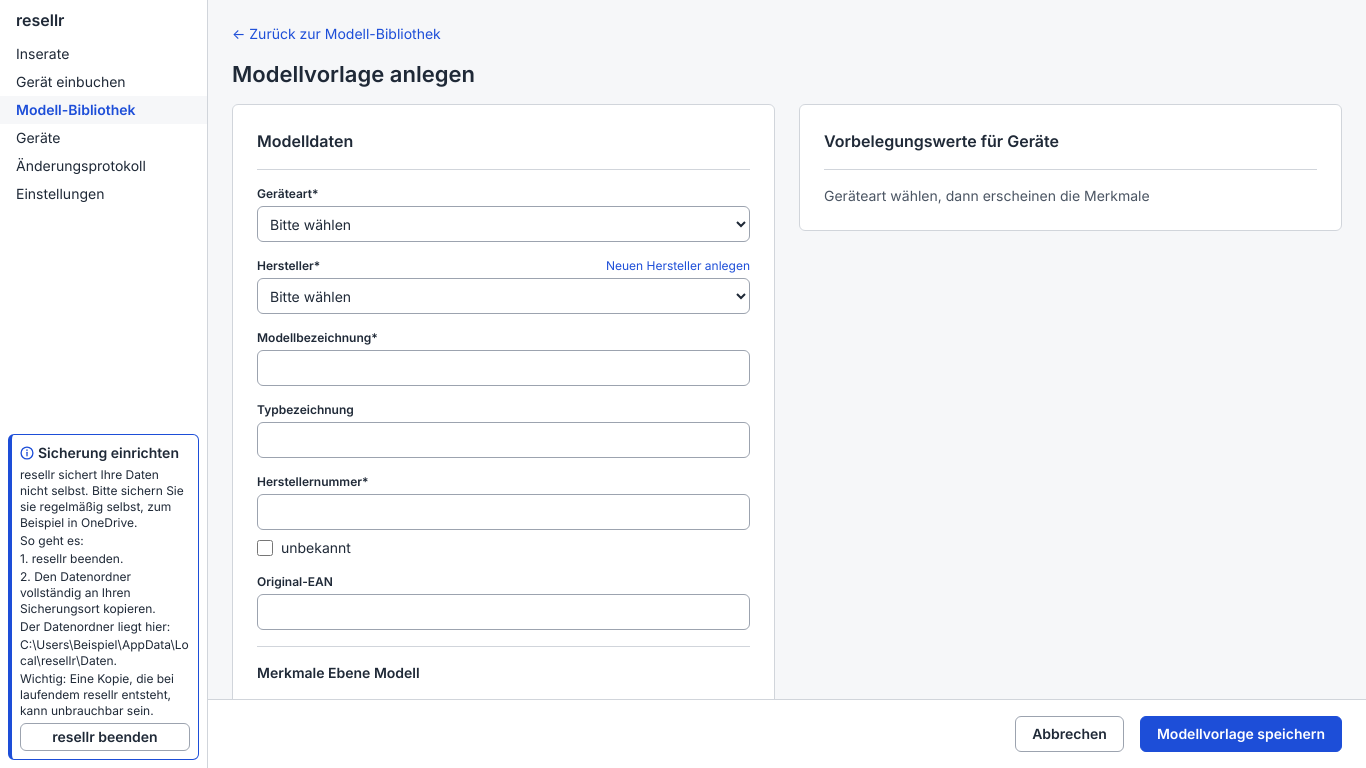
Test case: UI-007 attribute fields and device defaults (CU-111, CU-112, CU-114, #178) › AC-REQ-008-05 shows the missing required attribute of a 422 validation_failed at its field
Select "Notebook" in the dropdown labelled "Geräteart*": (504, 224) [257,206,750,242]
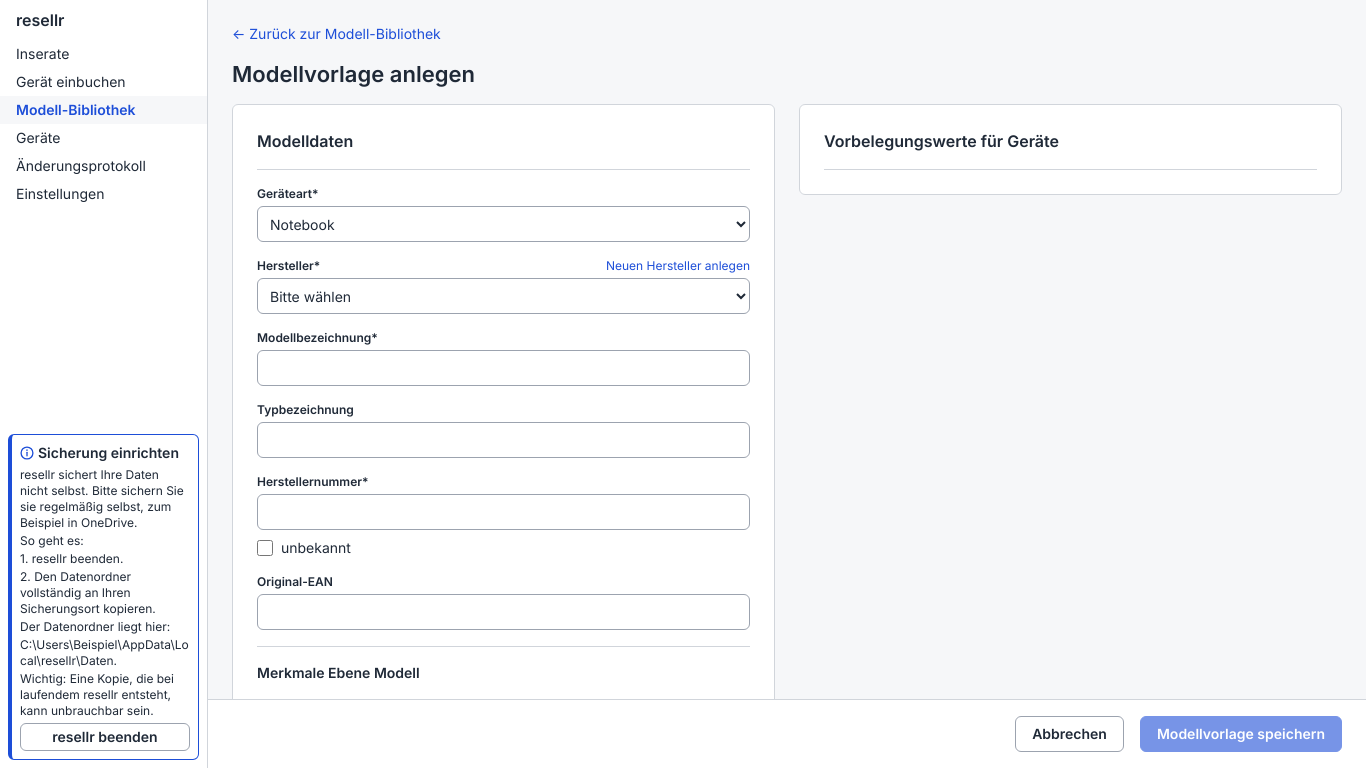
Select "Lenovo" in the dropdown labelled "Hersteller*": (504, 296) [257,278,750,314]
In the field labelled "Modellbezeichnung*": (504, 368) [257,350,750,386], type "ThinkPad E15 Gen 2"
In the field labelled "Herstellernummer*": (504, 512) [257,494,750,530], type "20TD002MGE"
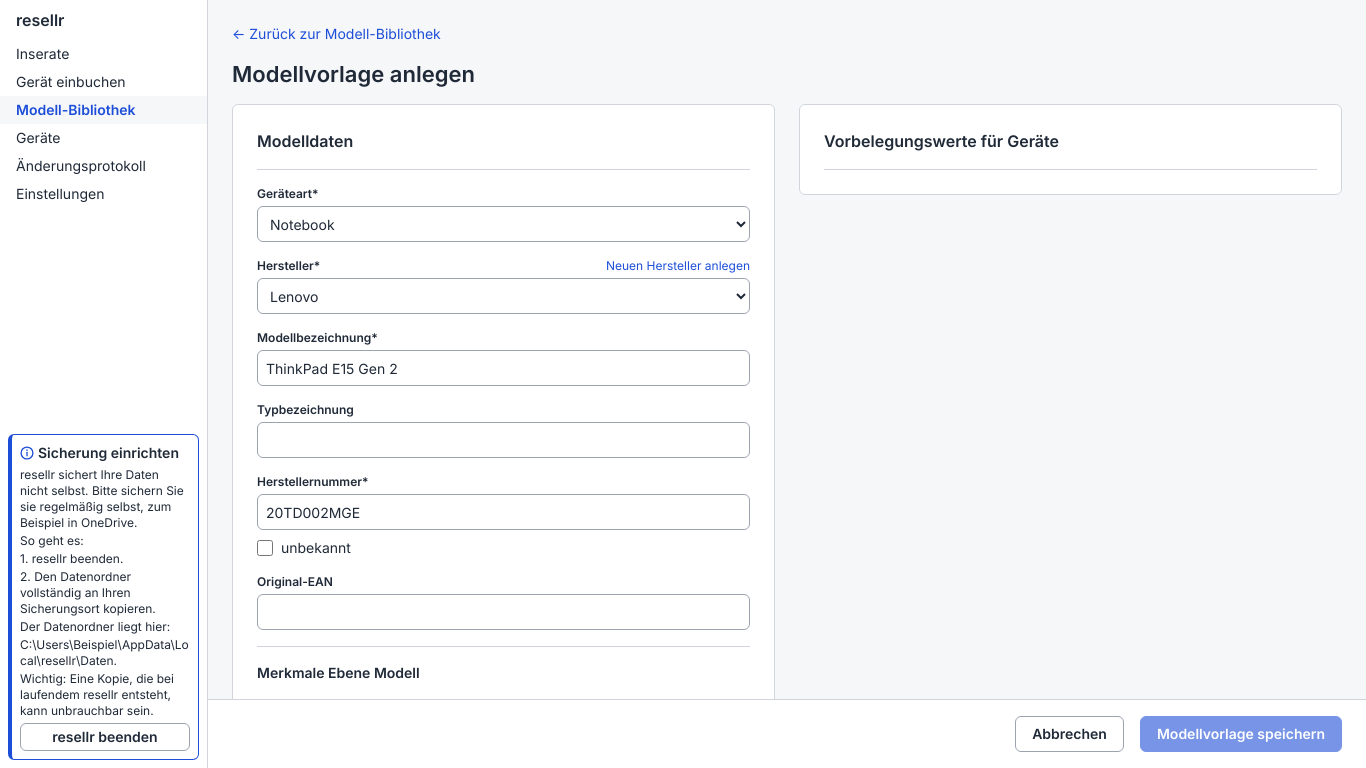
Clear the field labelled "Original-EAN": (504, 612) [257,594,750,630]
(page scrolled)
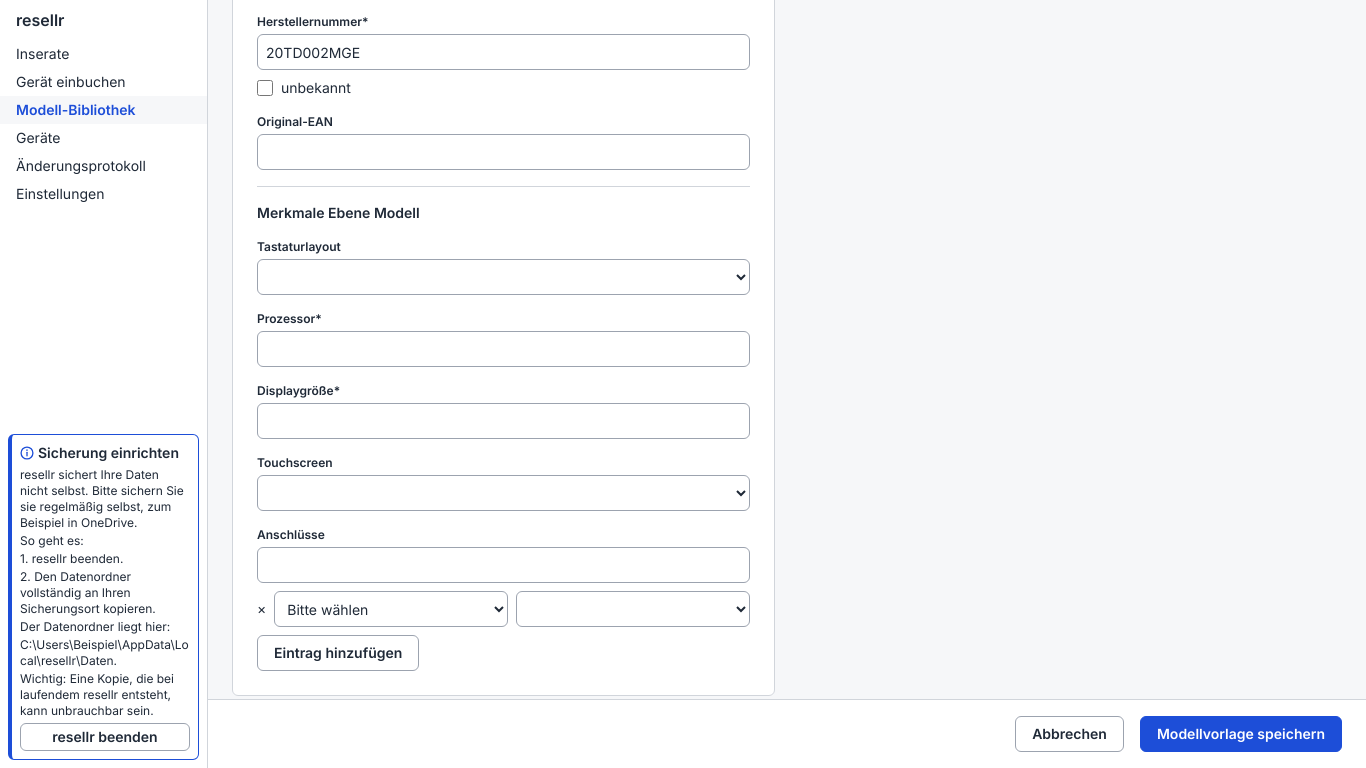
Result: the element named "Merkmale Ebene Modell" is shown at [257,239,750,671]
In the field labelled "Prozessor*": (504, 349) [257,331,750,367], type "Intel Core i5"
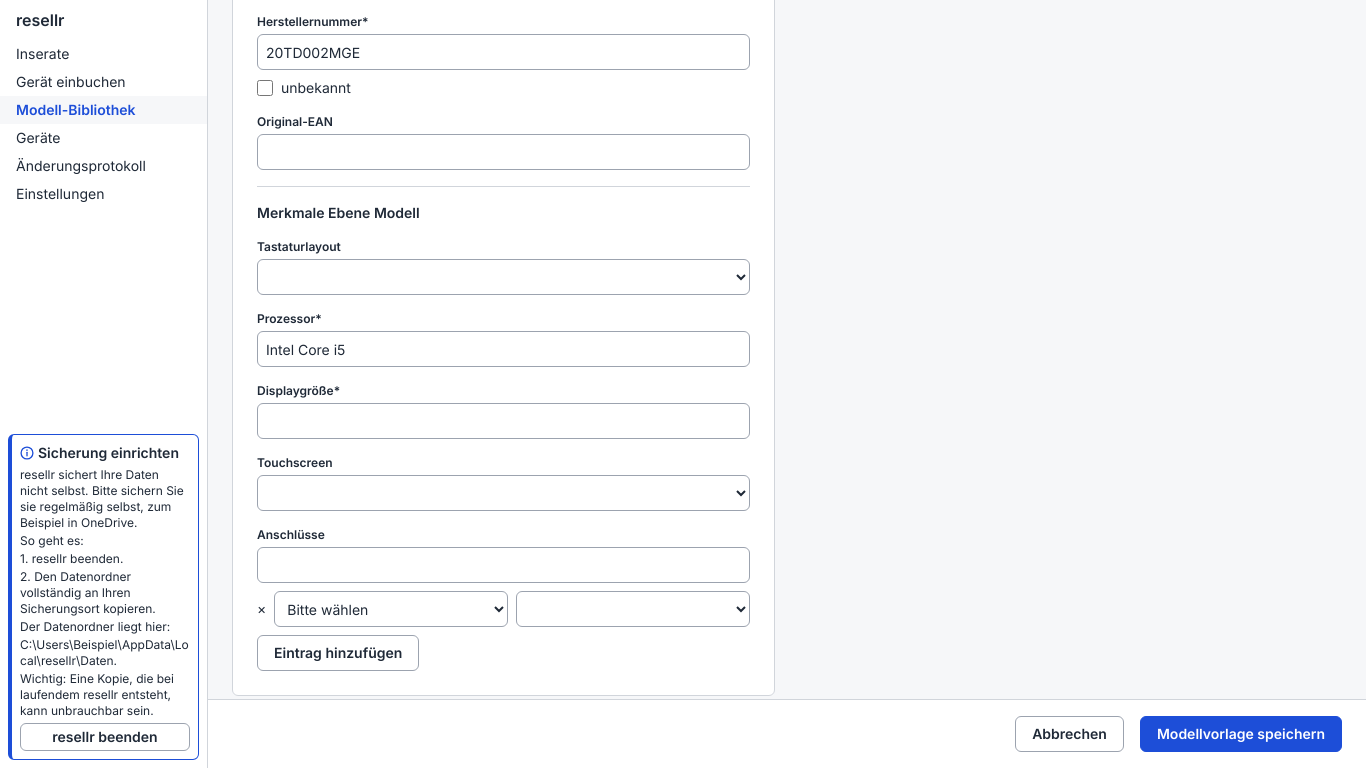
In the field labelled "Displaygröße*": (504, 421) [257,403,750,439], type "14,01"
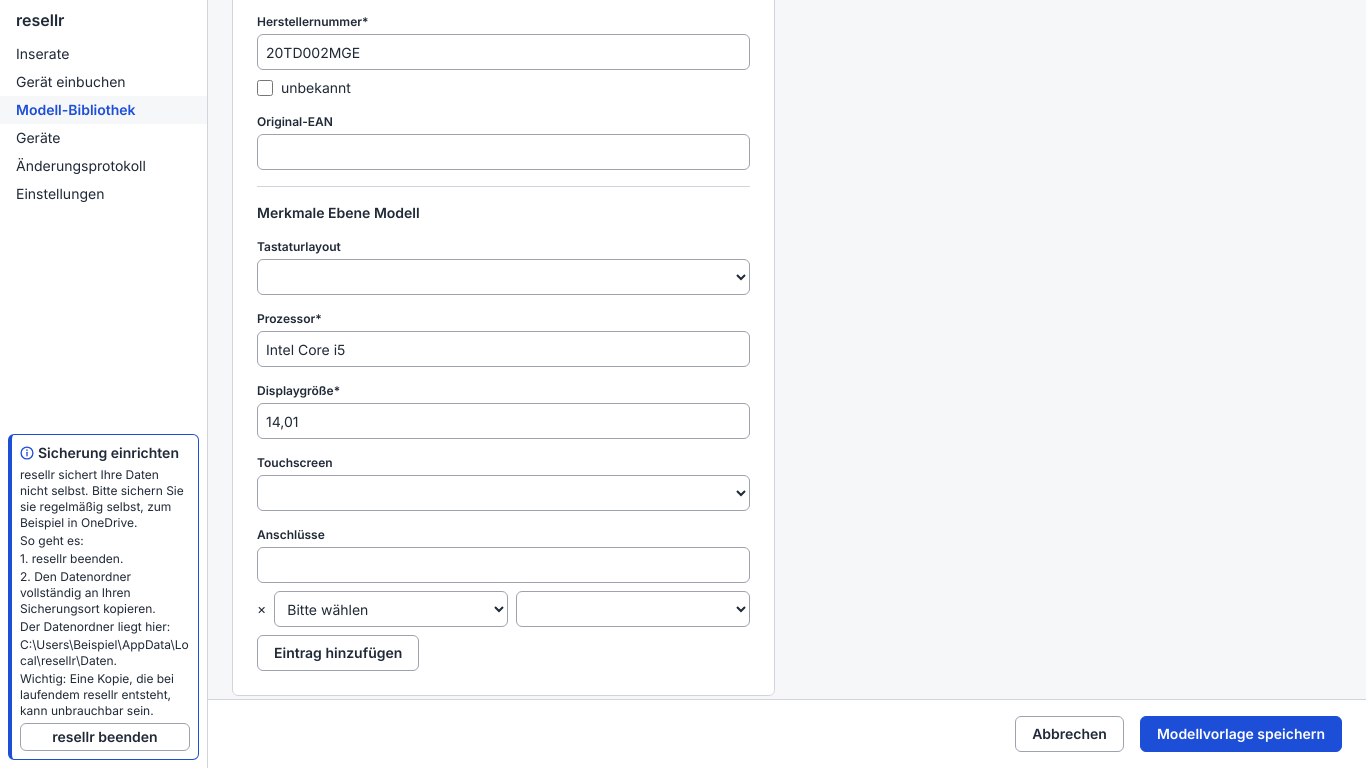
Click the button "Modellvorlage speichern": (1241, 734) [1140,716,1342,752]
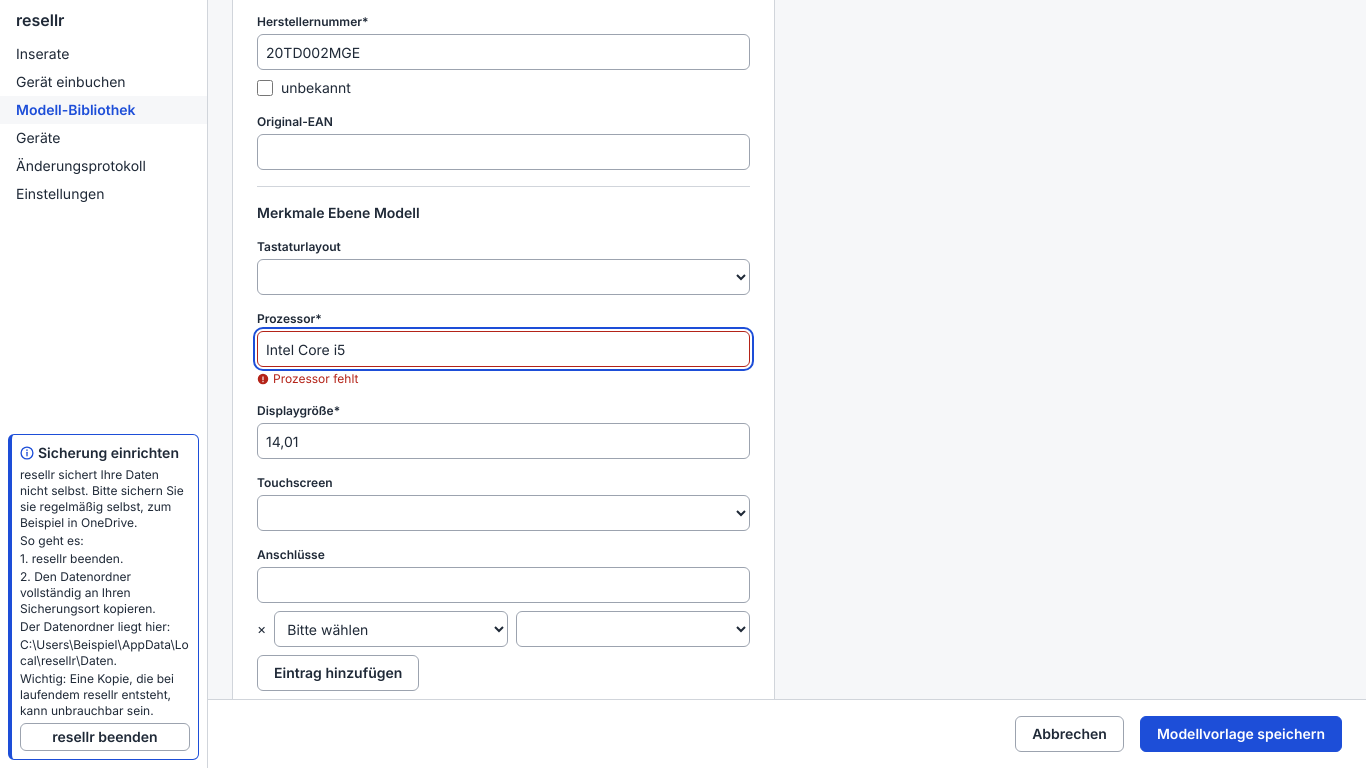
Result: the text "Prozessor fehlt" is shown at [273,371,358,387]
